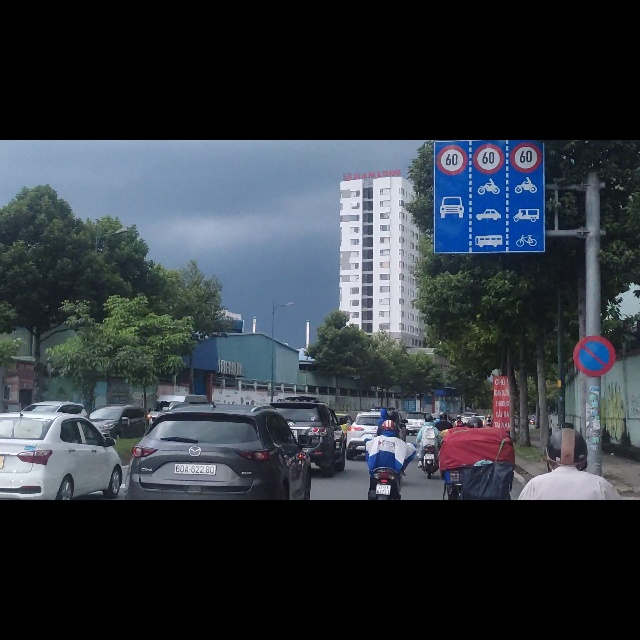bien_chi_dan: (434, 64, 544, 200), (574, 348, 615, 420), (434, 5, 469, 64), (509, 4, 543, 60), (472, 5, 505, 62)
